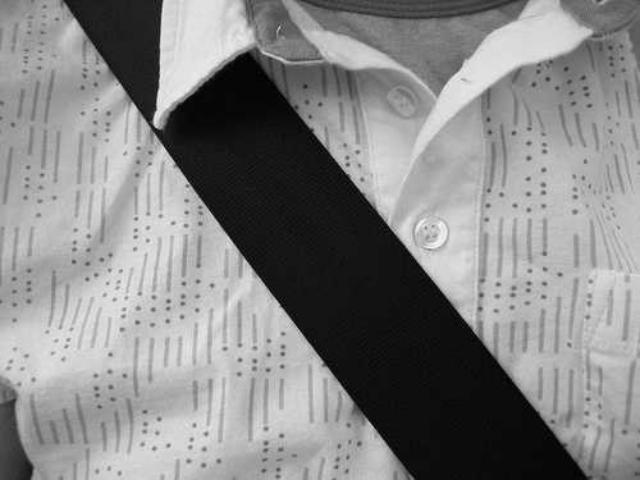Seatbelt: (59, 0, 595, 480)
